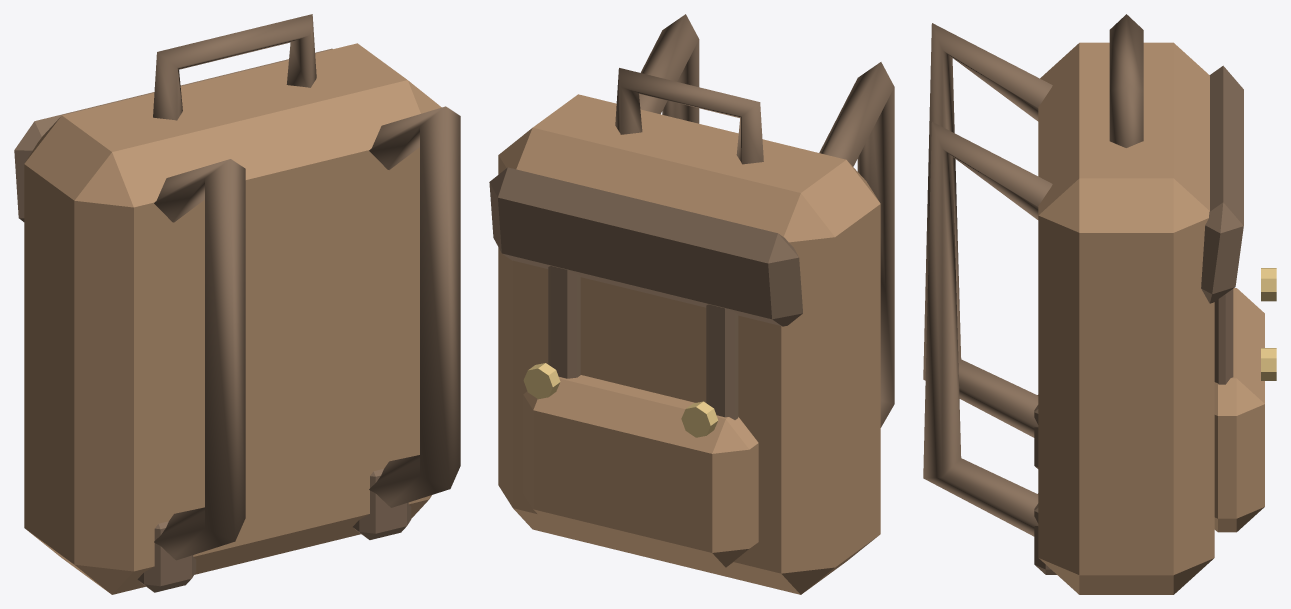
The model's file is BackpackBrown.glb.
3 views of the same model, side by side, from view 1: azimuth 30°, elevation 25°; view 2: azimuth 150°, elevation 25°; view 3: azimuth 270°, elevation 25° (orthographic). The views are drawn at different scales.
Parts seen in each view (by area): view 1: PackBody, ShoulderStrap_R, ShoulderStrap_L, CarryHandle, BottomStrapAnchor_L, BottomStrapAnchor_R, TopFlap; view 2: PackBody, FrontPouch, TopFlap, ShoulderStrap_L, CarryHandle, ShoulderStrap_R, LeatherClosure, LeatherClosure.001, BrassStud, BrassStud.001; view 3: PackBody, ShoulderStrap_R, ShoulderStrap_L, FrontPouch, TopFlap, CarryHandle, LeatherClosure.001, BrassStud, BrassStud.001.
Part boxes in pixels (<box>): PackBody: <box>24,43,441,594</box>; ShoulderStrap_R: <box>369,106,460,507</box>; ShoulderStrap_L: <box>154,159,245,560</box>; CarryHandle: <box>153,14,316,120</box>; BottomStrapAnchor_L: <box>137,521,196,592</box>; BottomStrapAnchor_R: <box>353,469,411,539</box>; TopFlap: <box>14,48,332,221</box>; PackBody: <box>498,94,880,594</box>; FrontPouch: <box>523,375,758,567</box>; TopFlap: <box>489,167,802,326</box>; ShoulderStrap_L: <box>819,62,894,427</box>; CarryHandle: <box>615,68,763,164</box>; ShoulderStrap_R: <box>639,14,699,123</box>; LeatherClosure: <box>706,304,738,419</box>; LeatherClosure.001: <box>548,266,580,378</box>; BrassStud: <box>681,401,718,437</box>; BrassStud.001: <box>523,363,560,399</box>; PackBody: <box>1038,42,1214,594</box>; ShoulderStrap_R: <box>923,122,1052,536</box>; ShoulderStrap_L: <box>923,23,1052,437</box>; FrontPouch: <box>1214,288,1264,532</box>; TopFlap: <box>1201,65,1243,303</box>; CarryHandle: <box>1109,14,1143,147</box>; LeatherClosure.001: <box>1214,289,1233,384</box>; BrassStud: <box>1261,268,1276,301</box>; BrassStud.001: <box>1261,348,1276,380</box>.
Bounding box in the file's own units: 0.64 × 0.8367 × 0.5614.
